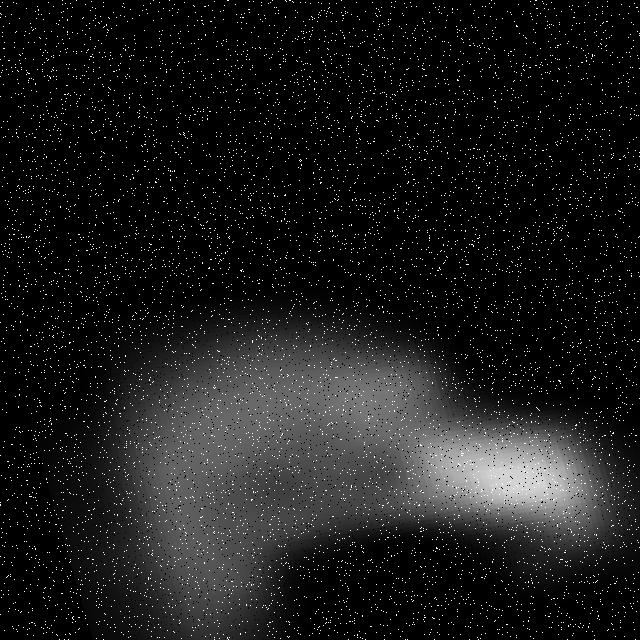person: (5, 154, 640, 640)
